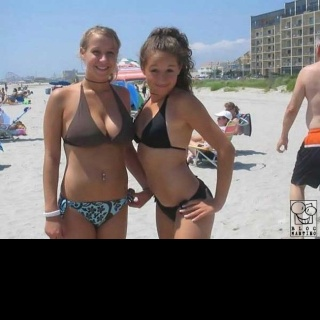without_mask: (269, 109, 320, 253)
